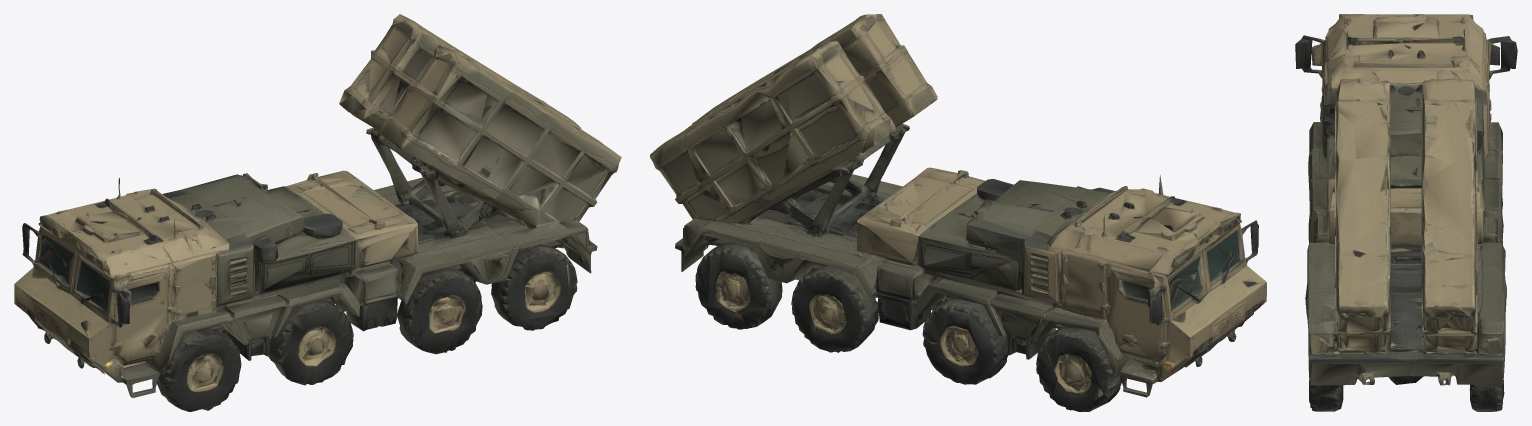
Rendered from coastal-defense-tel-meshy6-web-strategic-v2.glb.
3 renders of one model, left to right at view 1: azimuth 30°, elevation 25°; view 2: azimuth 150°, elevation 25°; view 3: azimuth 270°, elevation 25°, orthographic. The views are drawn at different scales.
Bounding box in the file's own units: 1.9 × 0.935 × 0.6379.
1 material, 1 textured.
